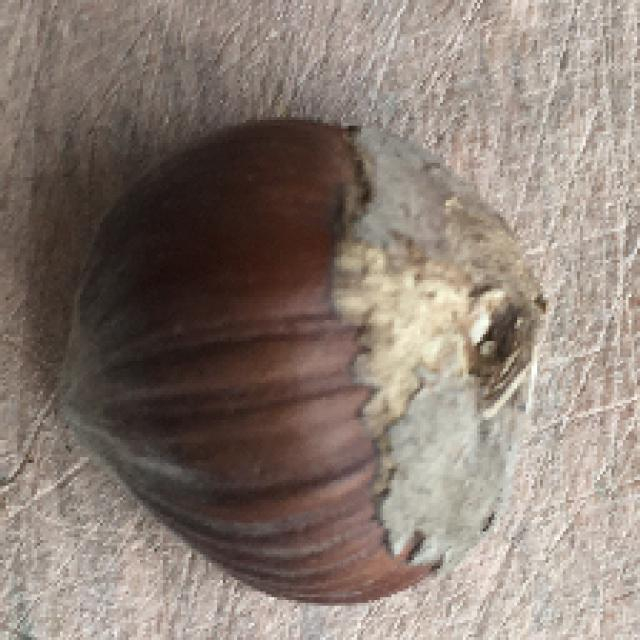damagedHazelnut: (64, 110, 550, 618)
